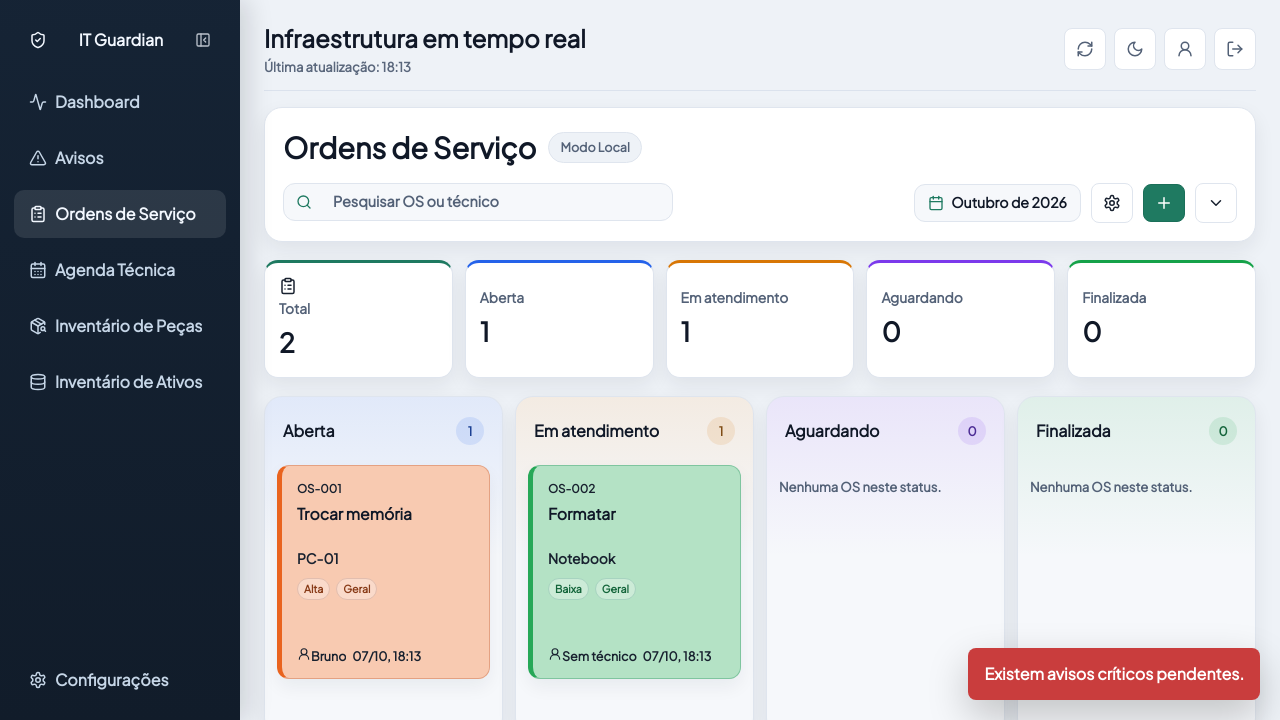
Test: modais: Escape fecha e devolve o foco ao disparador › detalhe da OS
The image size is (1280, 720).
Expected: the heading "Infraestrutura em tempo real" is shown, [264,20,586,56]
Click the button "OS-001".
click(384, 572)  # box [277,465,490,679]
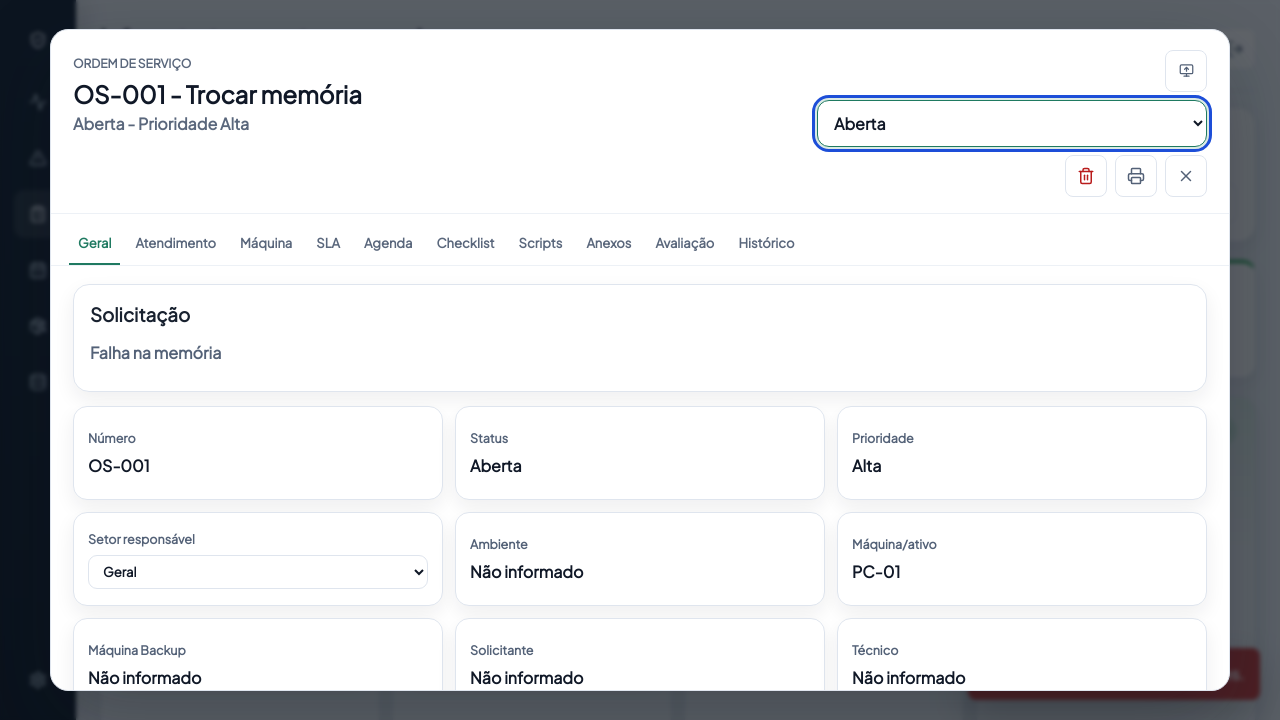
Press Escape
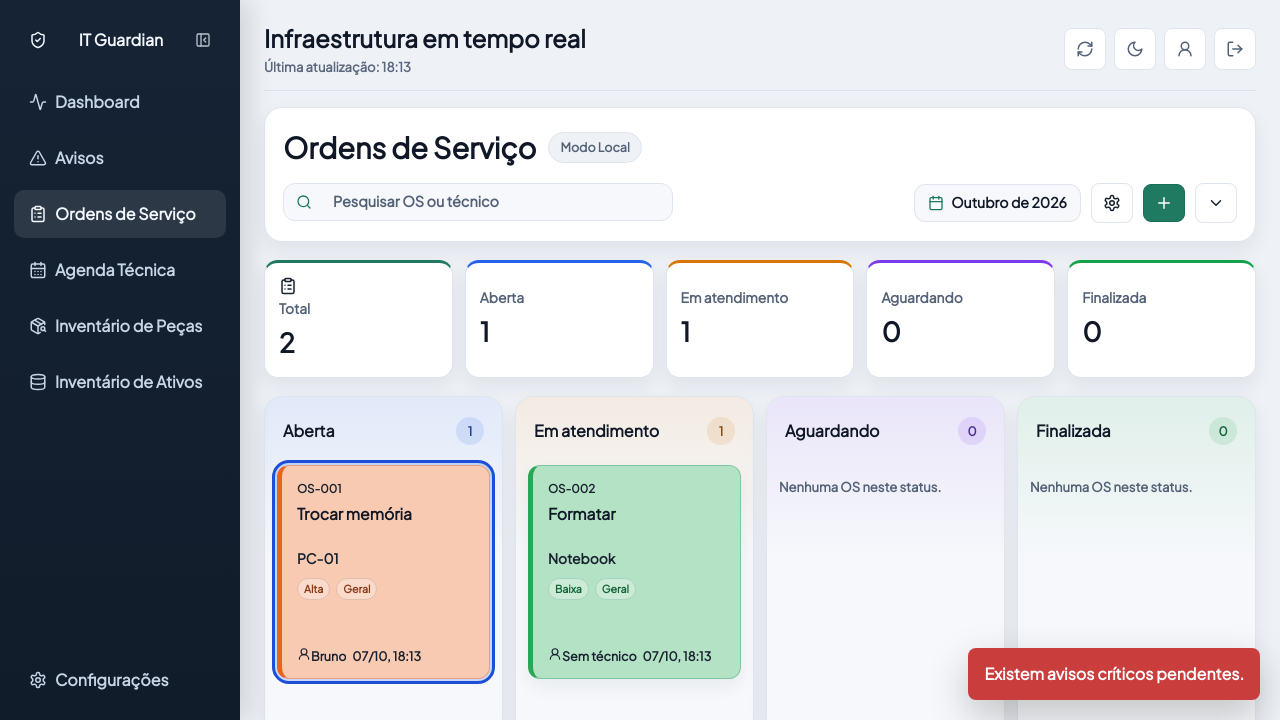
Now the dialog is gone
